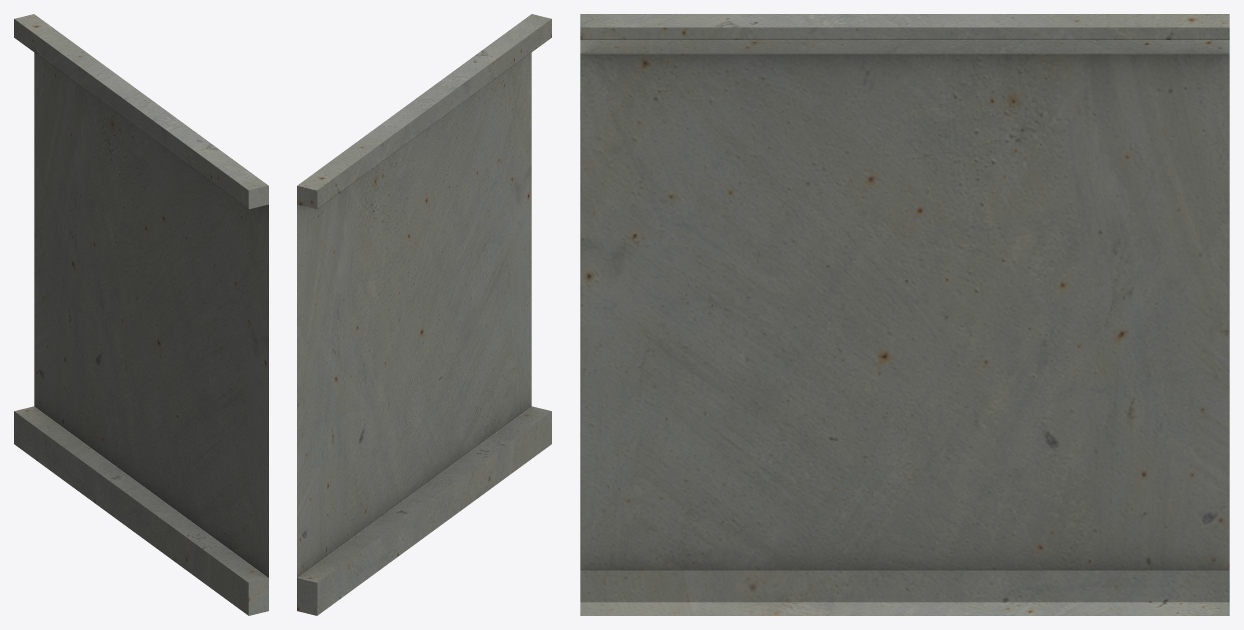
Rendered from SingleWall05.fbx.
3 renders of one model, left to right at view 1: azimuth 30°, elevation 25°; view 2: azimuth 150°, elevation 25°; view 3: azimuth 270°, elevation 25°, orthographic. The views are drawn at different scales.
Visible parts, largest first — view 1: Plane.001; view 2: Plane.001; view 3: Plane.001.
Part boxes in pixels (box(x1,y1,x2,y2)): Plane.001: box(14, 14, 268, 615); Plane.001: box(297, 14, 551, 615); Plane.001: box(580, 14, 1229, 615).
Size of the model in its own units: 4.93 by 100 by 100.
